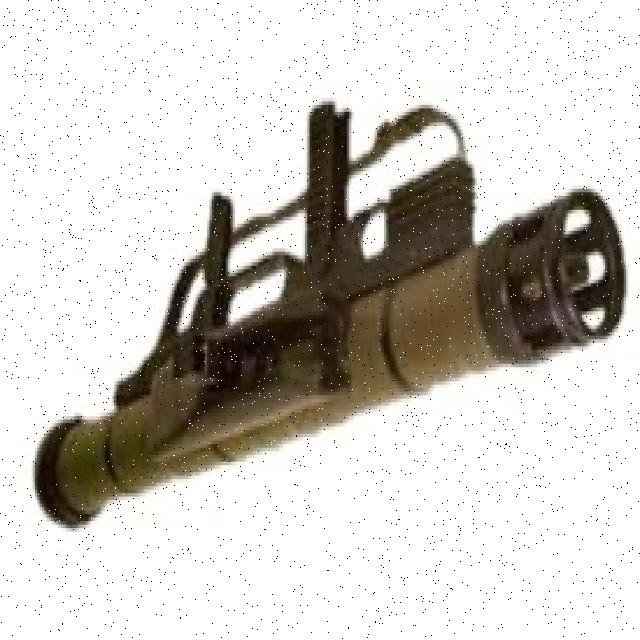bazooka: (30, 84, 632, 534)
